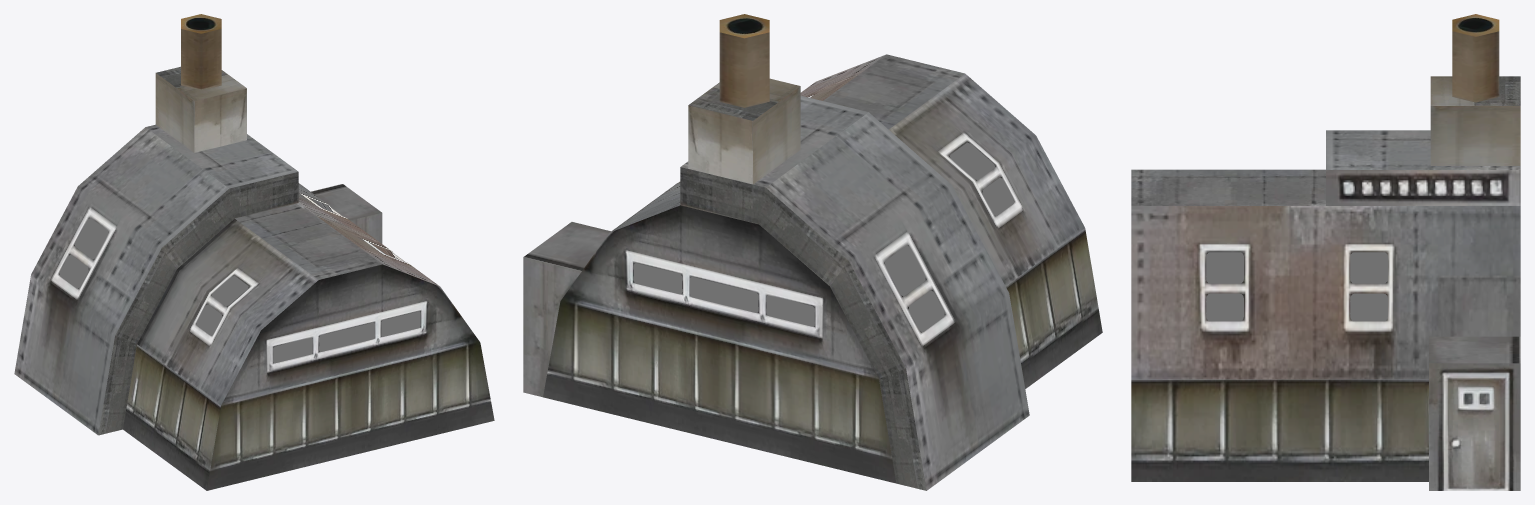
Rendered from singlecivlivinga_hdtex.glb.
3 renders of one model, left to right at view 1: azimuth 30°, elevation 25°; view 2: azimuth 150°, elevation 25°; view 3: azimuth 270°, elevation 25°, orthographic. The views are drawn at different scales.
Visible parts, largest first — view 1: Cylinder04, LitWin_SingleCivLivingA; view 2: Cylinder04, LitWin_SingleCivLivingA; view 3: Cylinder04, LitWin_SingleCivLivingA.
Part boxes in pixels (x1=…): Cylinder04: x1=14, y1=14, x2=494, y2=490; LitWin_SingleCivLivingA: x1=59, y1=218, x2=420, y2=363; Cylinder04: x1=523, y1=14, x2=1102, y2=490; LitWin_SingleCivLivingA: x1=633, y1=142, x2=1013, y2=332; Cylinder04: x1=1131, y1=14, x2=1520, y2=490; LitWin_SingleCivLivingA: x1=1206, y1=252, x2=1387, y2=321.
Bounding box in the file's own units: 7.85 × 7.38 × 6.95.
1 material, 1 textured.
